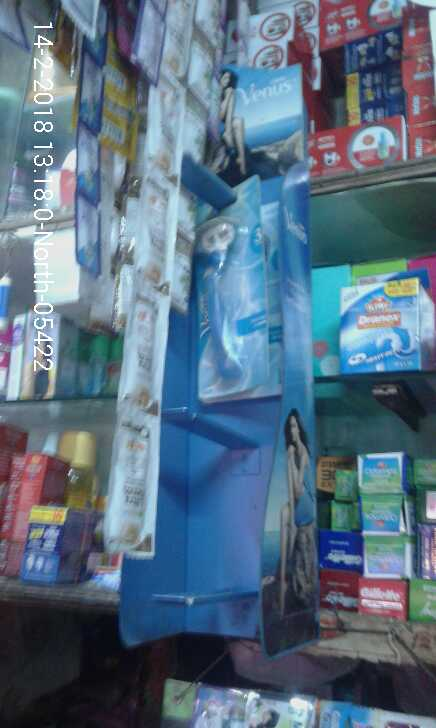venus: (189, 215, 270, 396)
